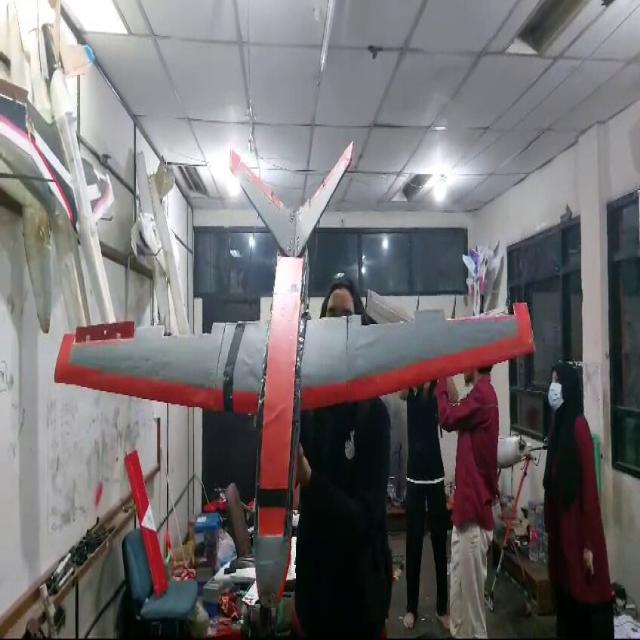plane: (53, 138, 536, 627)
